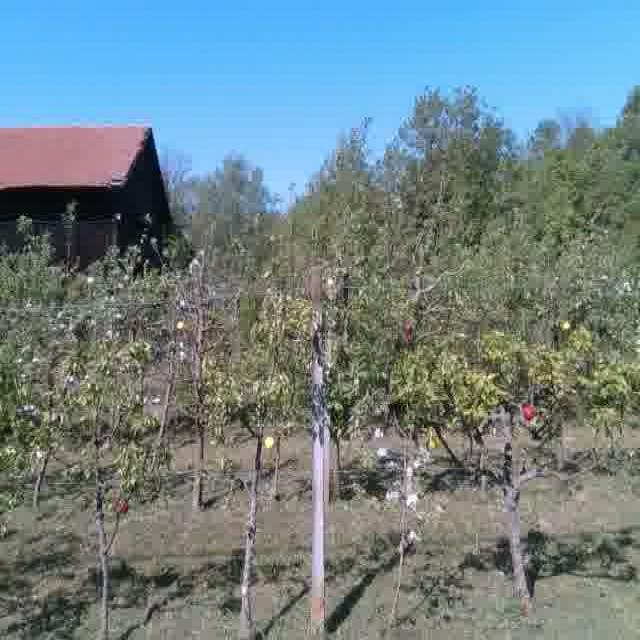red: (398, 315, 414, 340), (519, 398, 534, 424), (113, 496, 129, 515)
yellow: (262, 433, 277, 450), (174, 318, 185, 332)
